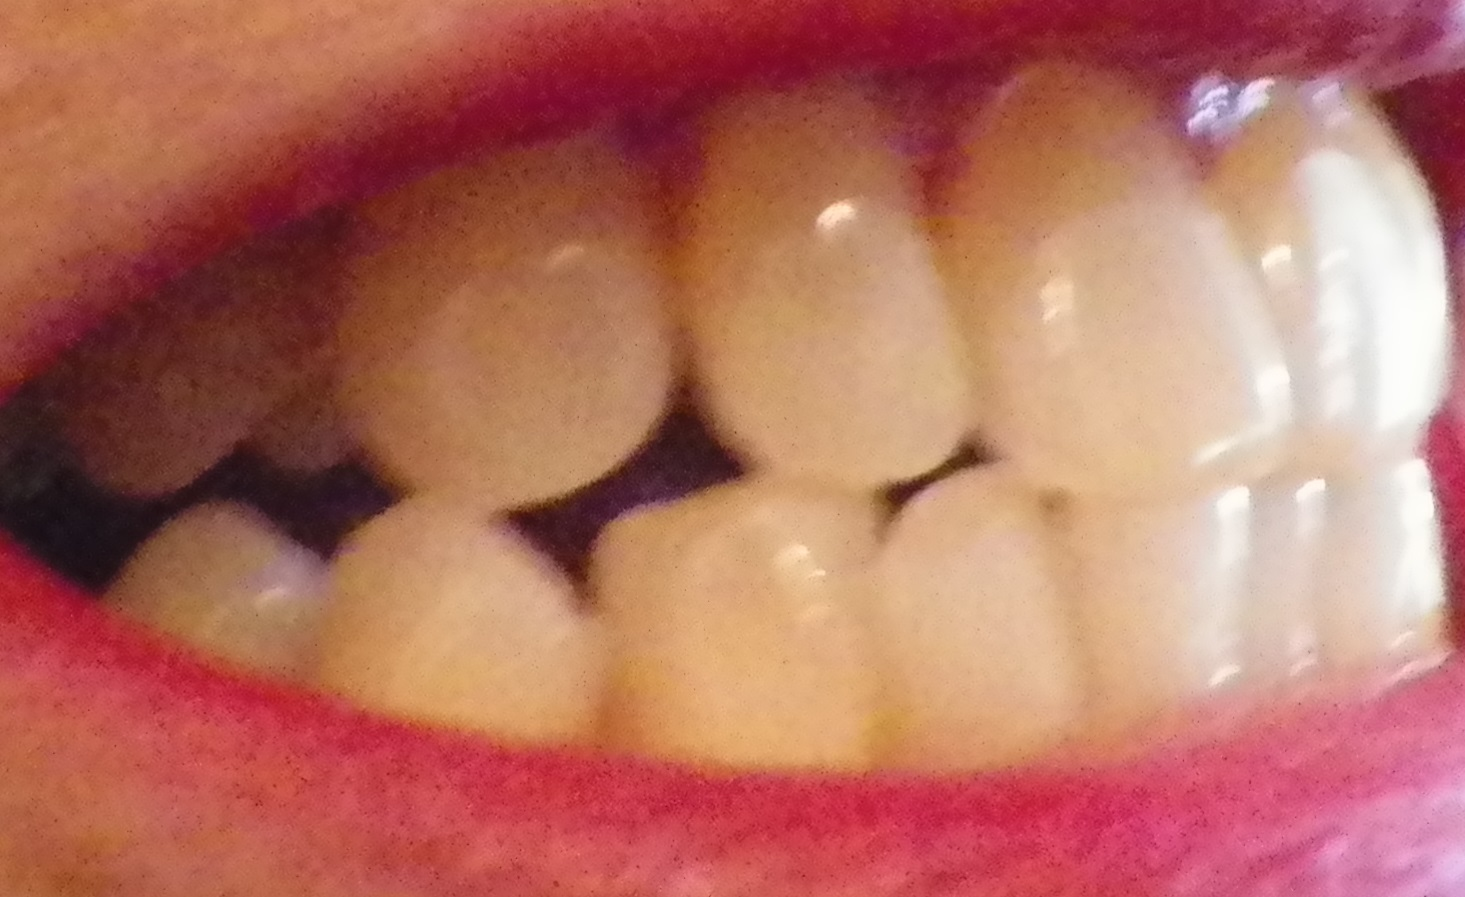boca: (60, 57, 1464, 765)
